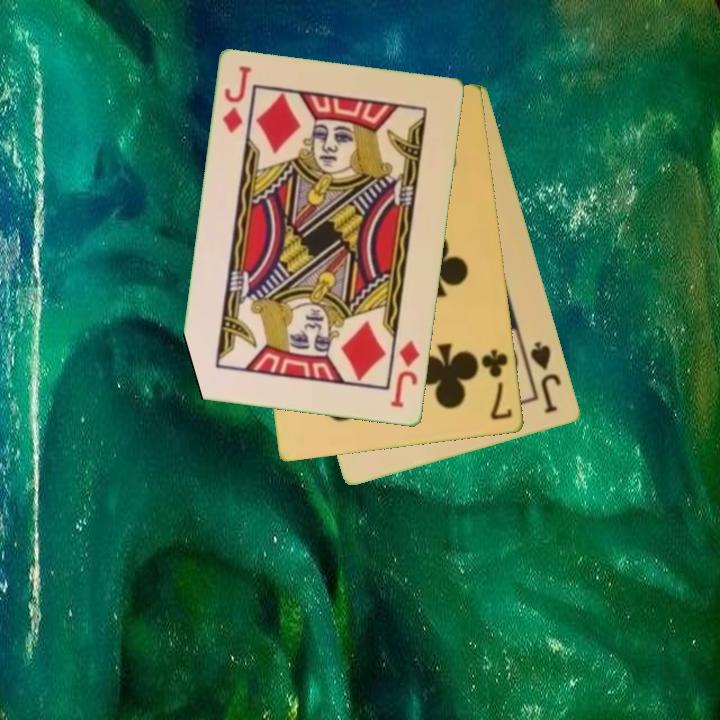7c: (478, 346, 516, 423)
Jd: (387, 337, 423, 411), (219, 63, 255, 136)
Js: (527, 338, 565, 417)
